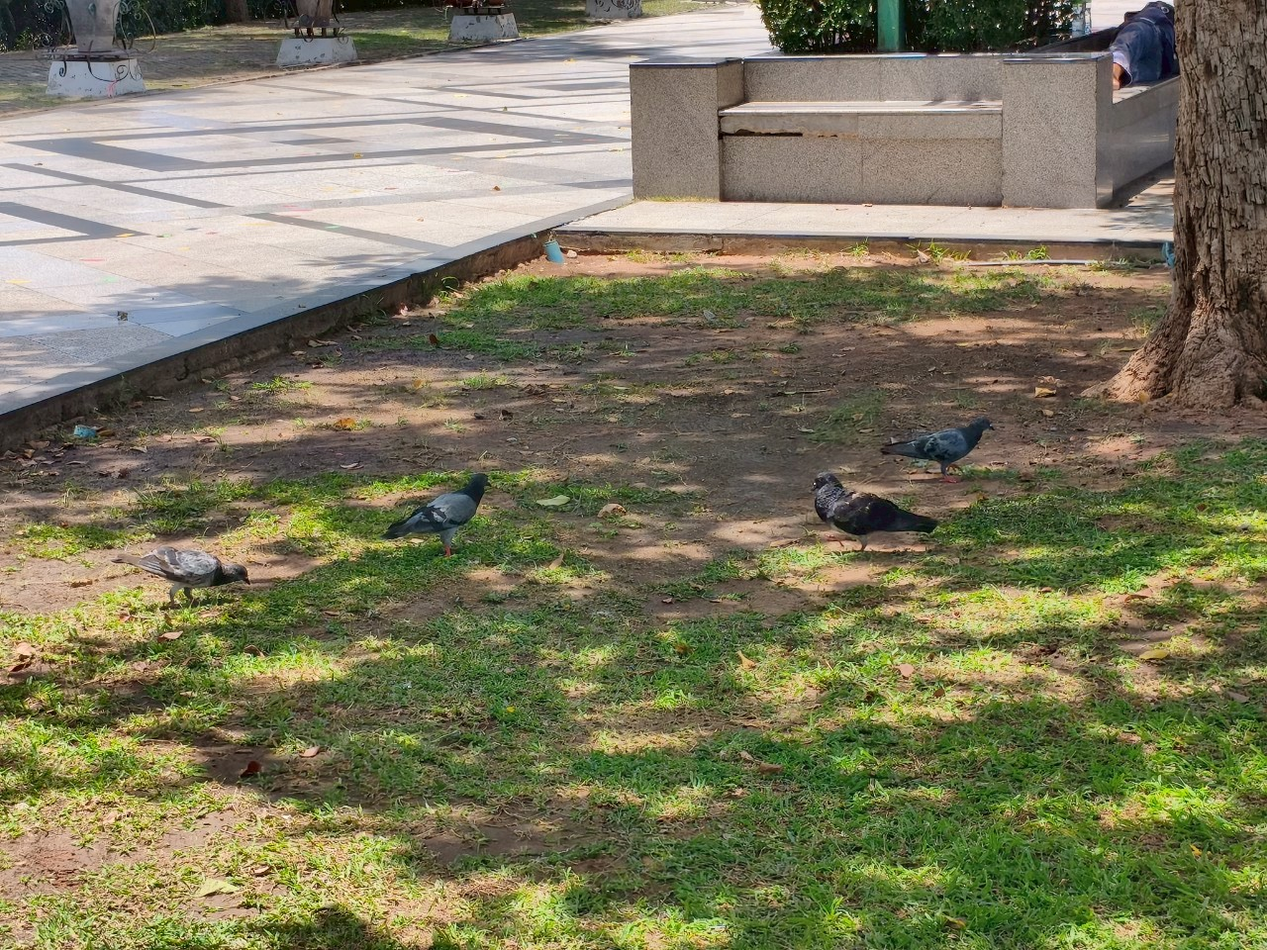Pigeon: (814, 473, 936, 549), (116, 546, 249, 605), (388, 475, 486, 554), (881, 417, 992, 476)
